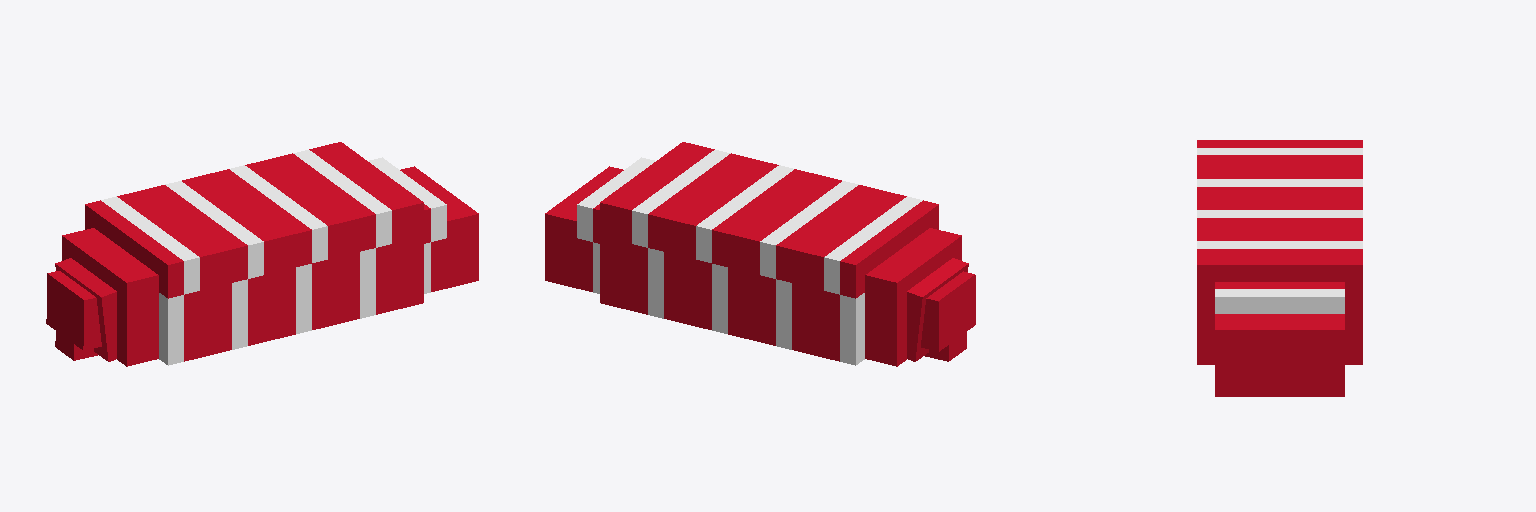
3 renders of one model, left to right at view 1: azimuth 30°, elevation 25°; view 2: azimuth 150°, elevation 25°; view 3: azimuth 270°, elevation 25°, orthographic.
Parts seen in each view (by area): view 1: Model; view 2: Model; view 3: Model.
Part boxes in pixels (x1,y1,x2,y2): Model: (46, 142, 478, 366); Model: (545, 142, 975, 366); Model: (1197, 140, 1362, 396).
Bounding box in the file's own units: 23.81 × 6.32 × 9.
Materials: 1 (1 with a texture image).